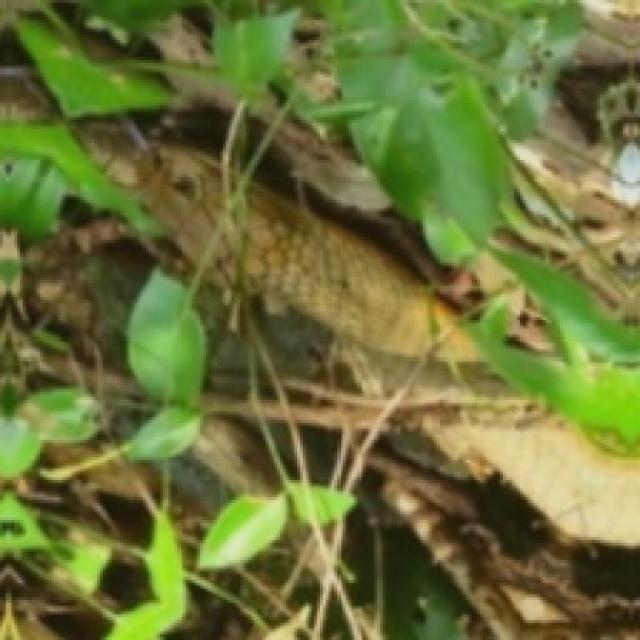king cobra: (20, 106, 474, 360), (0, 69, 66, 131)
